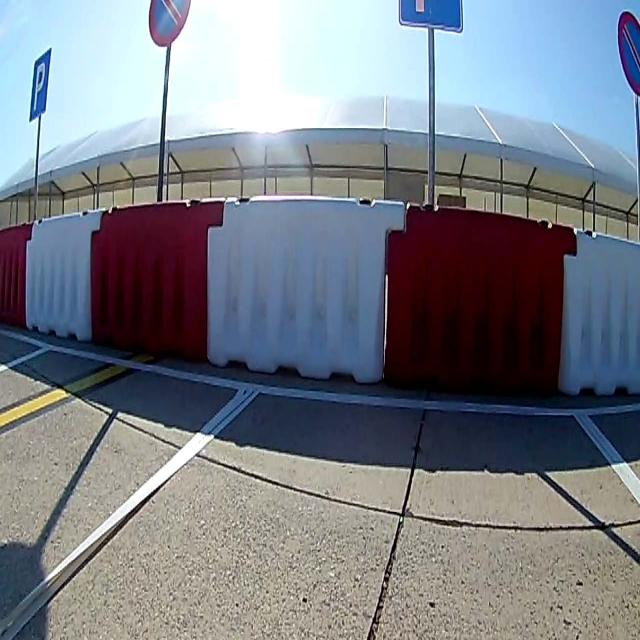park: (28, 51, 48, 117)
